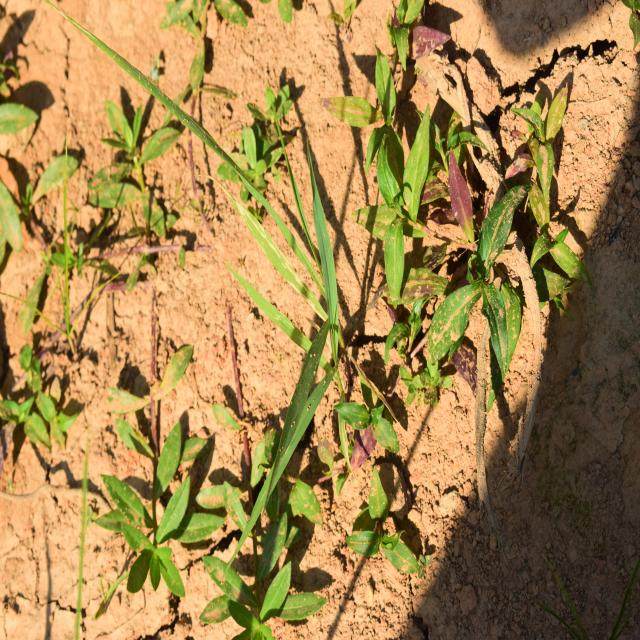green_foxtail: (195, 99, 365, 451)
